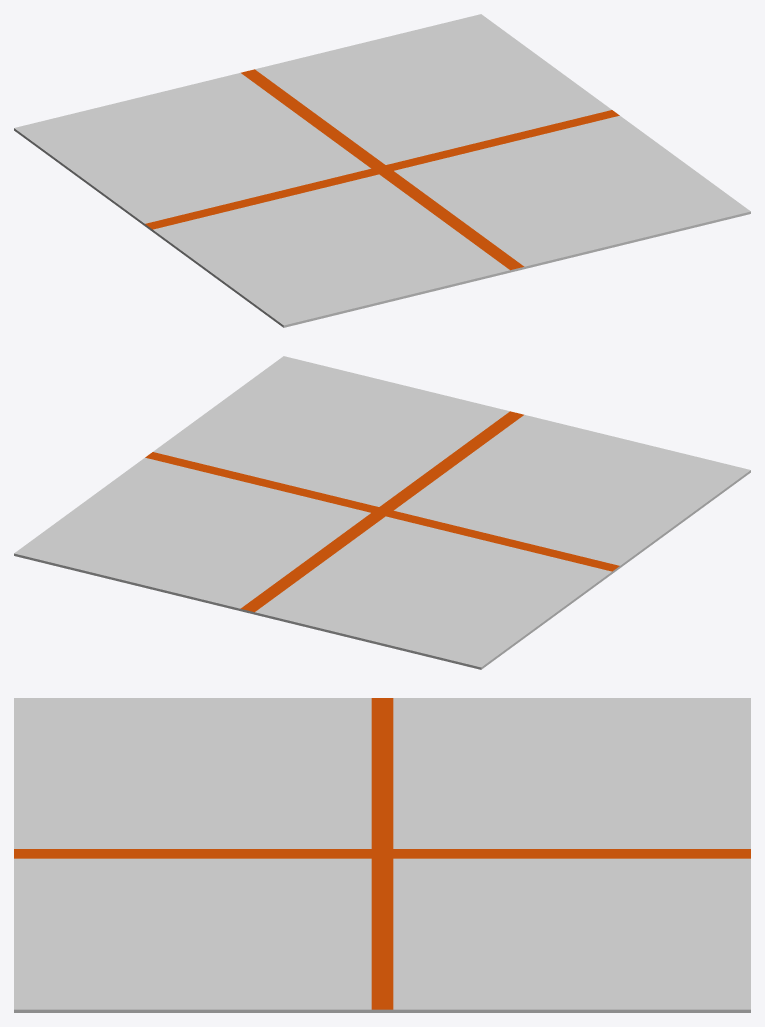
File: S_Floor2_LOD1.fbx
3 renders of one model, top to bottom at view 1: azimuth 30°, elevation 25°; view 2: azimuth 150°, elevation 25°; view 3: azimuth 270°, elevation 25°, orthographic. The views are drawn at different scales.
Visible parts, largest first — view 1: S_Floor2_LOD1; view 2: S_Floor2_LOD1; view 3: S_Floor2_LOD1.
Part boxes in pixels (x1,y1,x2,y2): S_Floor2_LOD1: [14, 14, 750, 327]; S_Floor2_LOD1: [14, 356, 750, 669]; S_Floor2_LOD1: [14, 698, 750, 1012].
Bounding box in the file's own units: 200 × 200 × 1.
